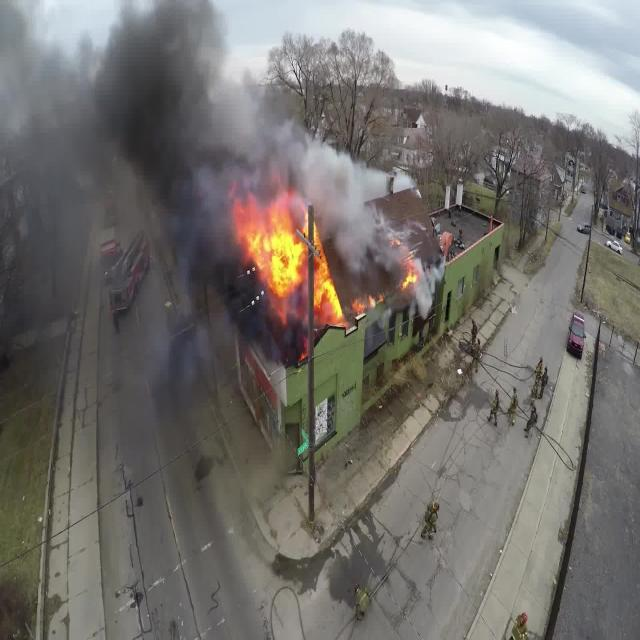Fire: (232, 192, 307, 304), (284, 206, 336, 332), (352, 298, 368, 318)
Smoke: (166, 8, 419, 326)
